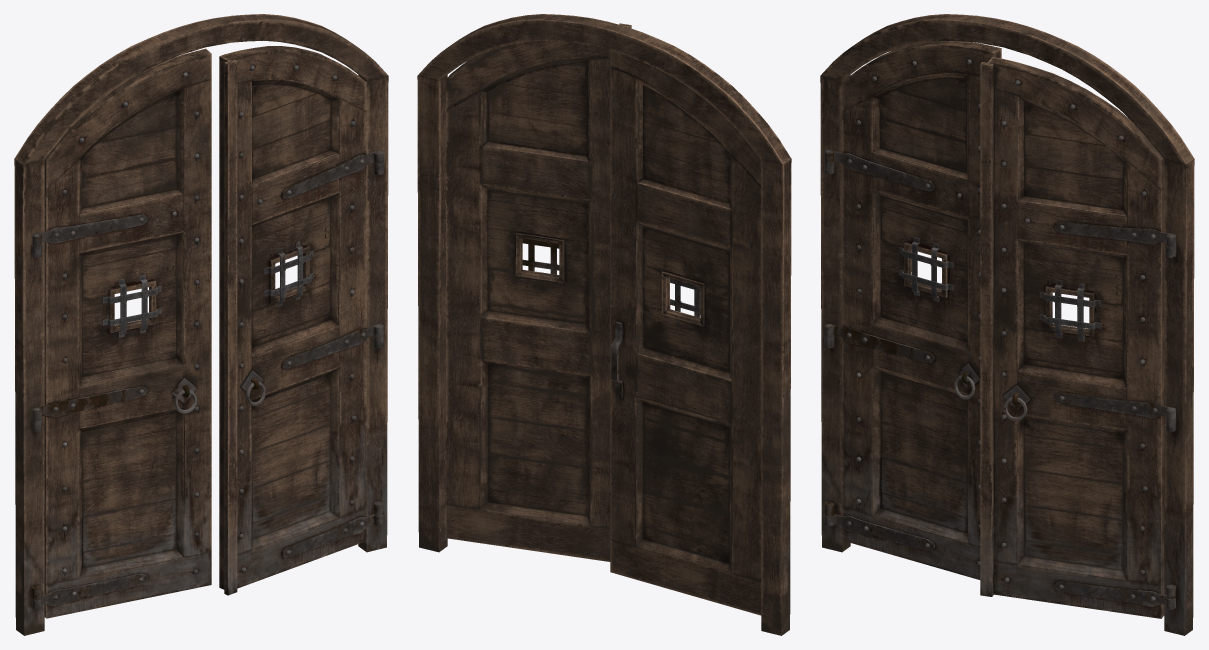
The model's file is large_castle_door_2k-slim.glb.
3 renders of one model, left to right at view 1: azimuth 30°, elevation 25°; view 2: azimuth 150°, elevation 25°; view 3: azimuth 330°, elevation 25°, orthographic.
Parts seen in each view (by area): view 1: large_castle_door_left, large_castle_door_right, large_castle_door_frame; view 2: large_castle_door_right, large_castle_door_left, large_castle_door_frame; view 3: large_castle_door_right, large_castle_door_left, large_castle_door_frame.
Part boxes in pixels (bbox=[...]): large_castle_door_left: bbox=[32, 48, 211, 618]; large_castle_door_right: bbox=[219, 46, 383, 595]; large_castle_door_frame: bbox=[14, 14, 388, 635]; large_castle_door_right: bbox=[446, 23, 631, 561]; large_castle_door_left: bbox=[610, 50, 761, 615]; large_castle_door_frame: bbox=[417, 14, 791, 635]; large_castle_door_right: bbox=[980, 57, 1175, 618]; large_castle_door_left: bbox=[824, 41, 1001, 579]; large_castle_door_frame: bbox=[820, 14, 1194, 635].
Bounding box in the file's own units: 2.01 × 2.96 × 0.2963.
1 material, 1 textured.
